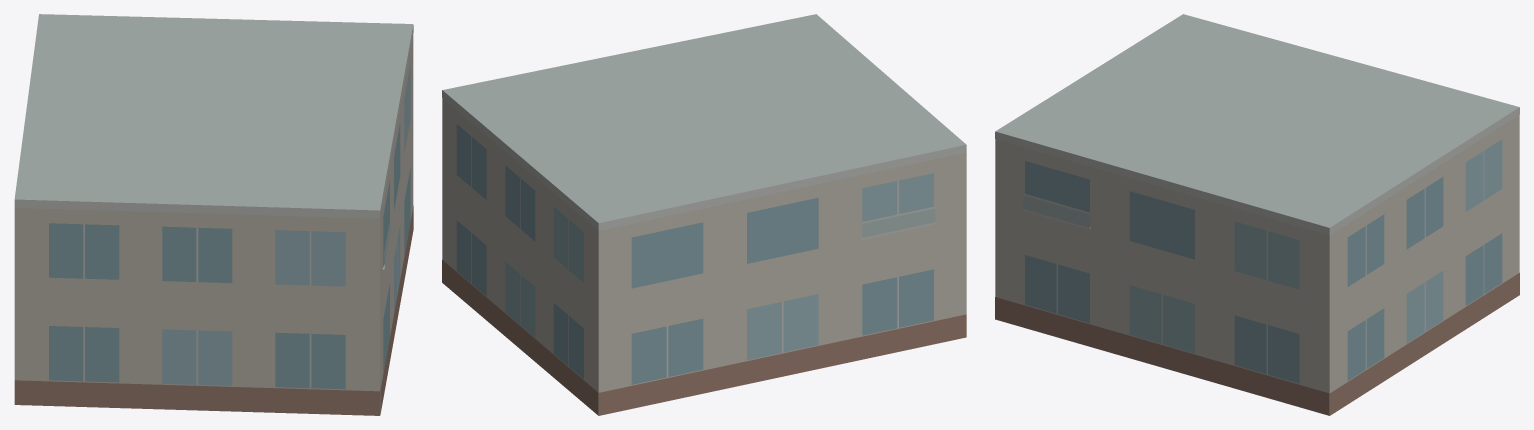
File: survey-upis-32893959.glb
The picture shows the model from 3 angles, left to right: view 1: azimuth 30°, elevation 25°; view 2: azimuth 150°, elevation 25°; view 3: azimuth 270°, elevation 25°; orthographic projection. The views are drawn at different scales.
Visible parts, largest first — view 1: survey-upis-32893959.tmp; view 2: survey-upis-32893959.tmp; view 3: survey-upis-32893959.tmp.
Part boxes in pixels (<box>): survey-upis-32893959.tmp: <box>14,14,413,415</box>; survey-upis-32893959.tmp: <box>442,14,966,415</box>; survey-upis-32893959.tmp: <box>995,14,1519,415</box>.
Size of the model in its own units: 14.9 by 6.1 by 15.44.
